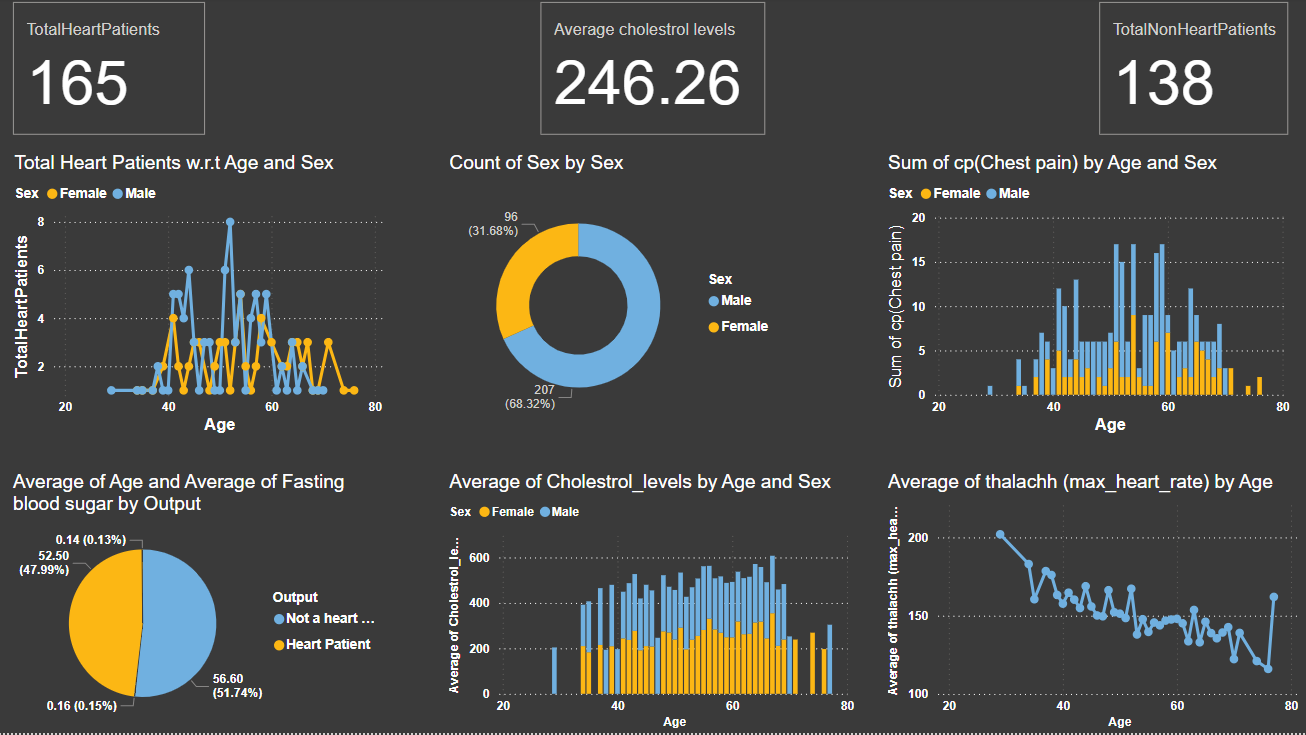

The dashboard page shown, as its layout file describes it:
{"tool":"powerbi","page":{"name":"Page 3","canvas":[1280,720],"ordinal":0},"visuals":[{"type":"cardVisual","fields":{"Data":["heart (1).TotalHeartPatients"]},"box":[10,0,198.6,140],"z":0},{"type":"cardVisual","fields":{"Data":["heart (1).TotalNonHeartPatients"]},"box":[1072.9,0,195.7,140],"z":1000},{"type":"lineChart","title":"Total Heart Patients w.r.t Age and Sex","fields":{"Category":["heart (1).Age"],"Y":["heart (1).TotalHeartPatients"],"Series":["heart (1).Sex"]},"box":[10.9,152,372.8,279.9],"z":2000},{"type":"columnChart","fields":{"Category":["heart (1).Age"],"Y":["Sum(heart (1).cp(Chest pain))"],"Series":["heart (1).Sex"]},"box":[865.7,151.4,402.9,280],"z":3000},{"type":"pieChart","fields":{"Y":["Avg(heart (1).Age)","Avg(heart (1).Fasting blood sugar)"],"Category":["heart (1).Output"]},"box":[10,462.9,372.9,257.1],"z":4000},{"type":"donutChart","fields":{"Category":["heart (1).Sex"],"Y":["CountNonNull(heart (1).Sex)"]},"box":[436.7,152,331.8,279.9],"z":5000},{"type":"lineChart","fields":{"Category":["heart (1).Age"],"Y":["Avg(heart (1).thalachh (max_heart_rate))"]},"box":[865.7,462.9,414.3,257.1],"z":6000},{"type":"cardVisual","fields":{"Data":["heart (1).Average cholestrol levels"]},"box":[525.7,0,230,140],"z":7000},{"type":"columnChart","fields":{"Y":["Avg(heart (1).Cholestrol_levels)"],"Category":["heart (1).Age"],"Series":["heart (1).Sex"]},"box":[437,463,406,257],"z":8000}]}

Visuals, with their boxes in screenshot pixels (x1, y1, x2, y2), scaled from the page's 1280x720 canvas onto the 1306x735 screenshot:
cardVisual - heart (1).TotalHeartPatients: [10, 0, 213, 143]
cardVisual - heart (1).TotalNonHeartPatients: [1095, 0, 1294, 143]
"Total Heart Patients w.r.t Age and Sex" lineChart: [11, 155, 391, 441]
columnChart - heart (1).Age x Sum(heart (1).cp(Chest pain)): [883, 155, 1294, 440]
pieChart - Avg(heart (1).Age) x Avg(heart (1).Fasting blood sugar): [10, 473, 391, 734]
donutChart - heart (1).Sex x CountNonNull(heart (1).Sex): [446, 155, 784, 441]
lineChart - heart (1).Age x Avg(heart (1).thalachh (max_heart_rate)): [883, 473, 1305, 734]
cardVisual - heart (1).Average cholestrol levels: [536, 0, 771, 143]
columnChart - Avg(heart (1).Cholestrol_levels) x heart (1).Age: [446, 473, 860, 734]
